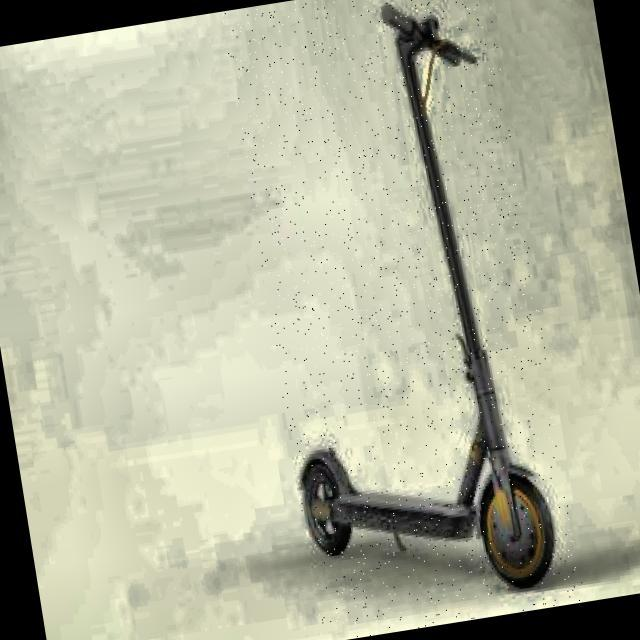bike: (298, 9, 556, 589)
